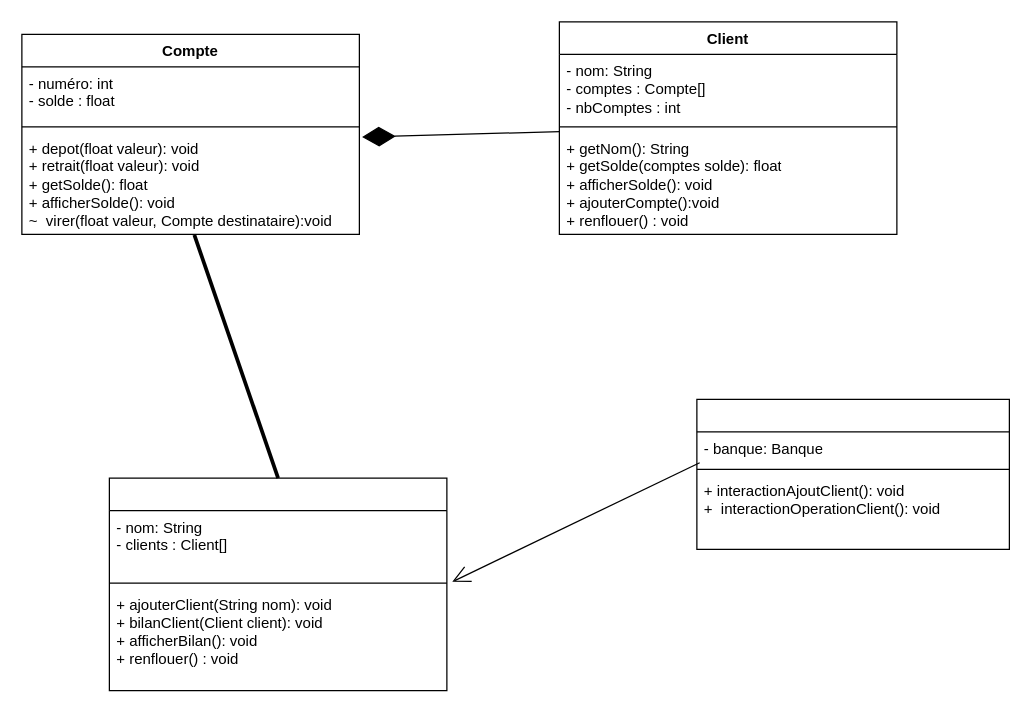
This 1031x716 diagram has some shape labels left out. Here are the shapes that lost their labels. From the top down, the box of each, then its label:
(696, 398, 1009, 549): BanqueInteractive
(108, 477, 447, 691): Banque
